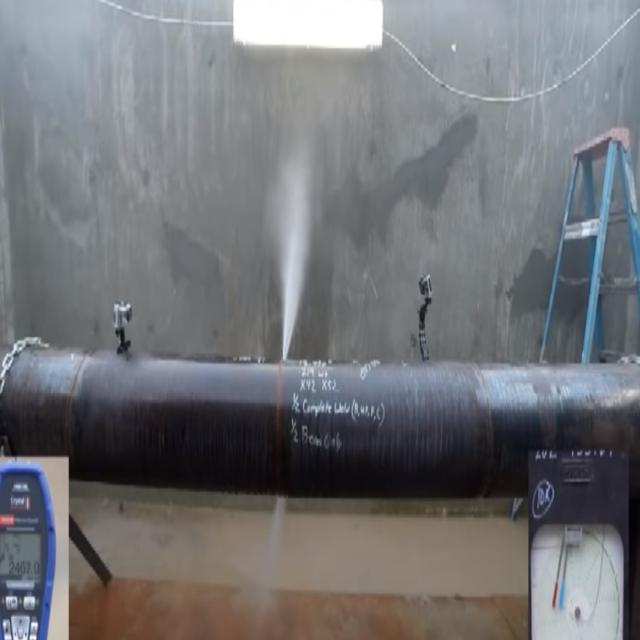leak: (281, 152, 321, 365)
